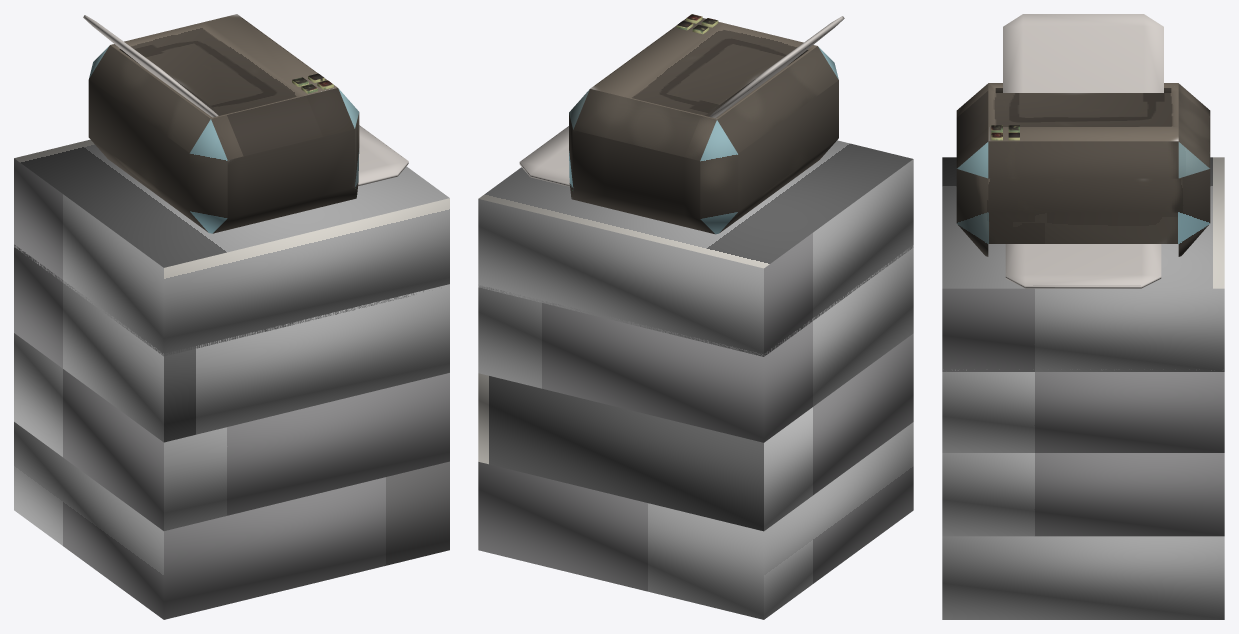
The model's file is Impressora.gltf.
3 renders of one model, left to right at view 1: azimuth 30°, elevation 25°; view 2: azimuth 150°, elevation 25°; view 3: azimuth 270°, elevation 25°, orthographic. The views are drawn at different scales.
Visible parts, largest first — view 1: BASE_DELA (×4), base_impressora, tampa_baixo, tampa_cima; view 2: BASE_DELA (×4), base_impressora, tampa_baixo, tampa_cima; view 3: BASE_DELA (×4), base_impressora, tampa_cima, tampa_baixo.
Part boxes in pixels (x1,y1,x2,y2): BASE_DELA (×4): (14, 139, 449, 619); base_impressora: (88, 14, 359, 233); tampa_baixo: (358, 125, 408, 186); tampa_cima: (83, 15, 218, 117); BASE_DELA (×4): (478, 140, 913, 619); base_impressora: (569, 18, 838, 234); tampa_baixo: (519, 126, 569, 186); tampa_cima: (709, 16, 844, 118); BASE_DELA (×4): (942, 157, 1224, 619); base_impressora: (956, 83, 1210, 256); tampa_cima: (1003, 14, 1163, 92); tampa_baixo: (1005, 244, 1161, 288).
Size of the model in its own units: 0.1064 by 0.1827 by 0.0957.
Materials: 2 (2 with a texture image).
